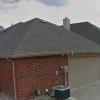Chimney: (59, 13, 74, 35)
